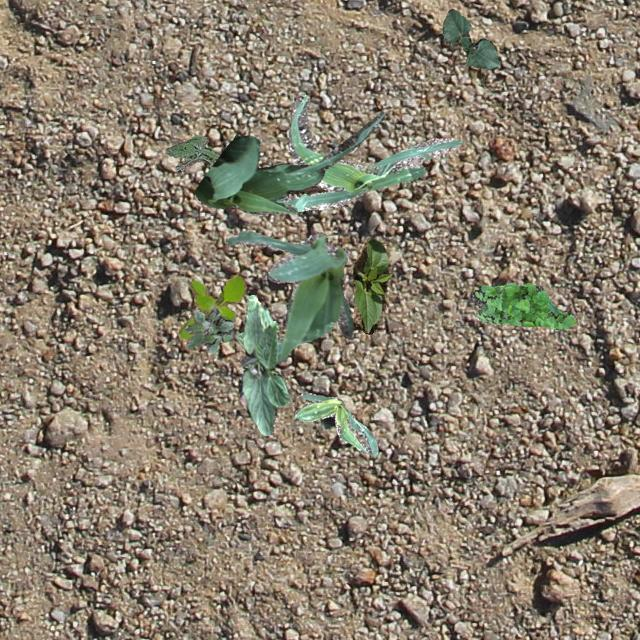crop: (274, 94, 462, 210), (193, 112, 384, 214), (225, 230, 352, 366), (238, 294, 290, 434), (293, 390, 377, 454), (352, 235, 390, 332), (442, 8, 500, 68), (235, 332, 282, 346)
weed: (472, 282, 574, 328), (177, 274, 244, 340), (184, 306, 232, 352), (164, 134, 220, 172)
